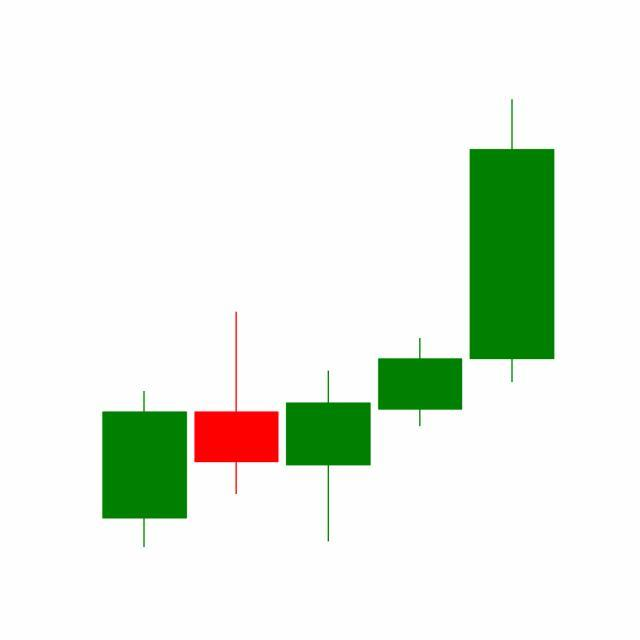Three Outside Up-Down: (190, 309, 467, 545)
